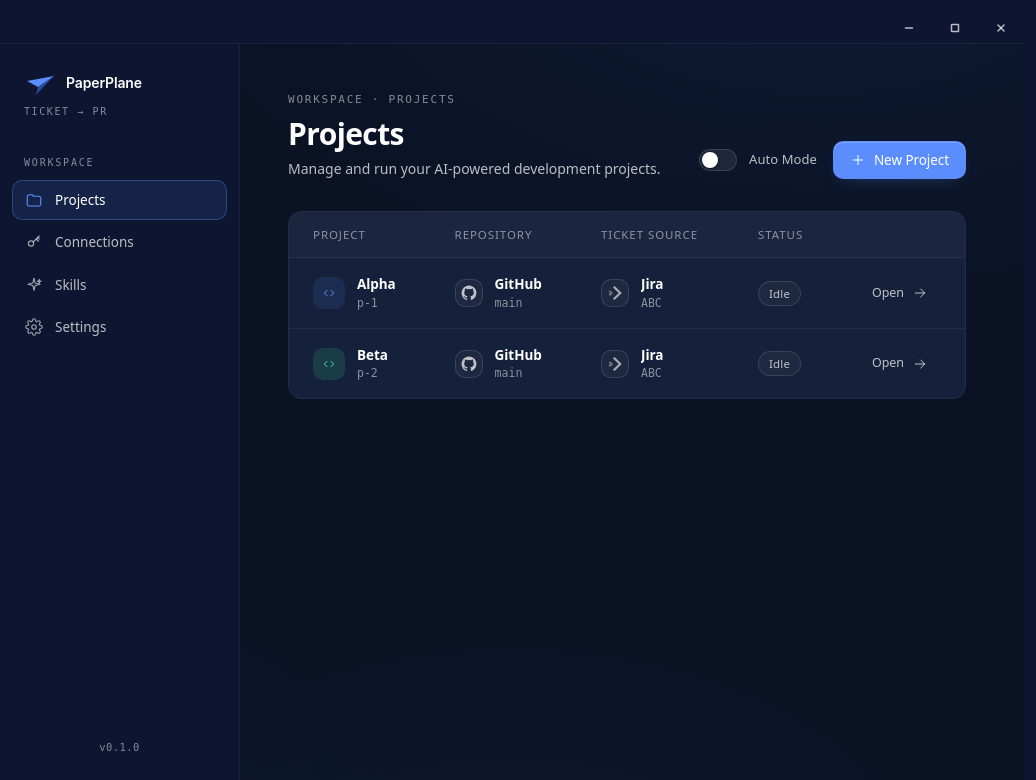
<App /> — APP-007/008 navigation through real ProjectDetail › APP-008: detail Back button returns to list view
Click the button with test id "project-open-p-1".
click(900, 293)  # box x1=859 y1=278 x2=941 y2=308
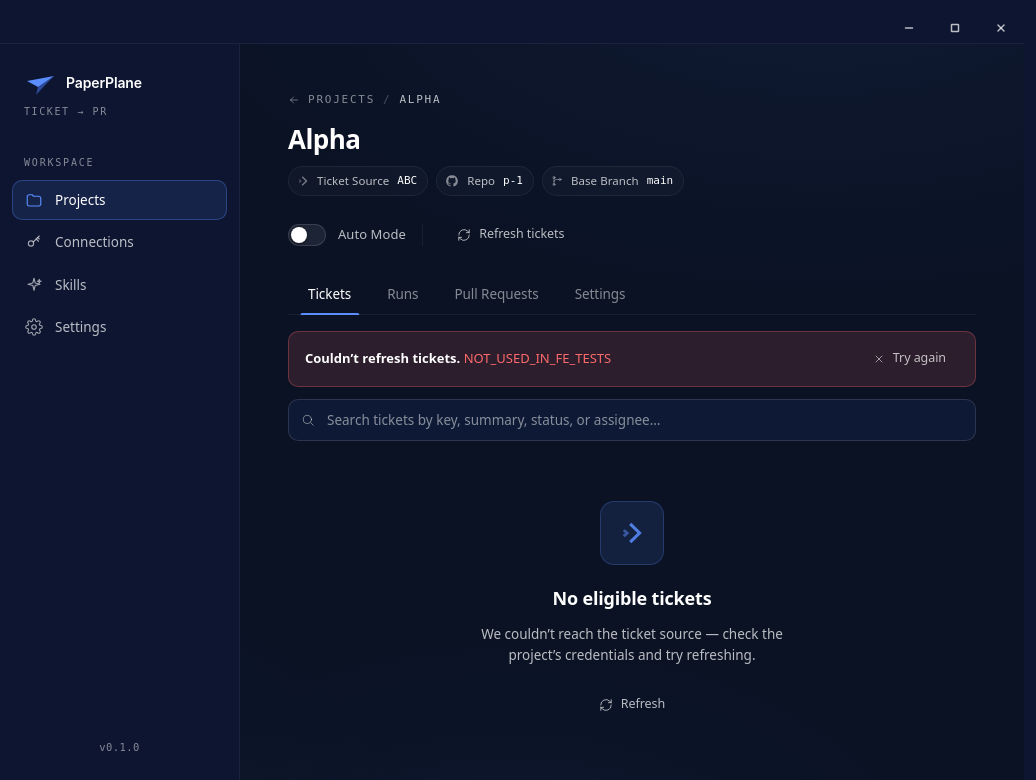
Expected: the heading "Alpha" is shown, x1=288 y1=120 x2=360 y2=156
Click the button with test id "detail-back".
click(332, 100)  # box x1=288 y1=92 x2=375 y2=108
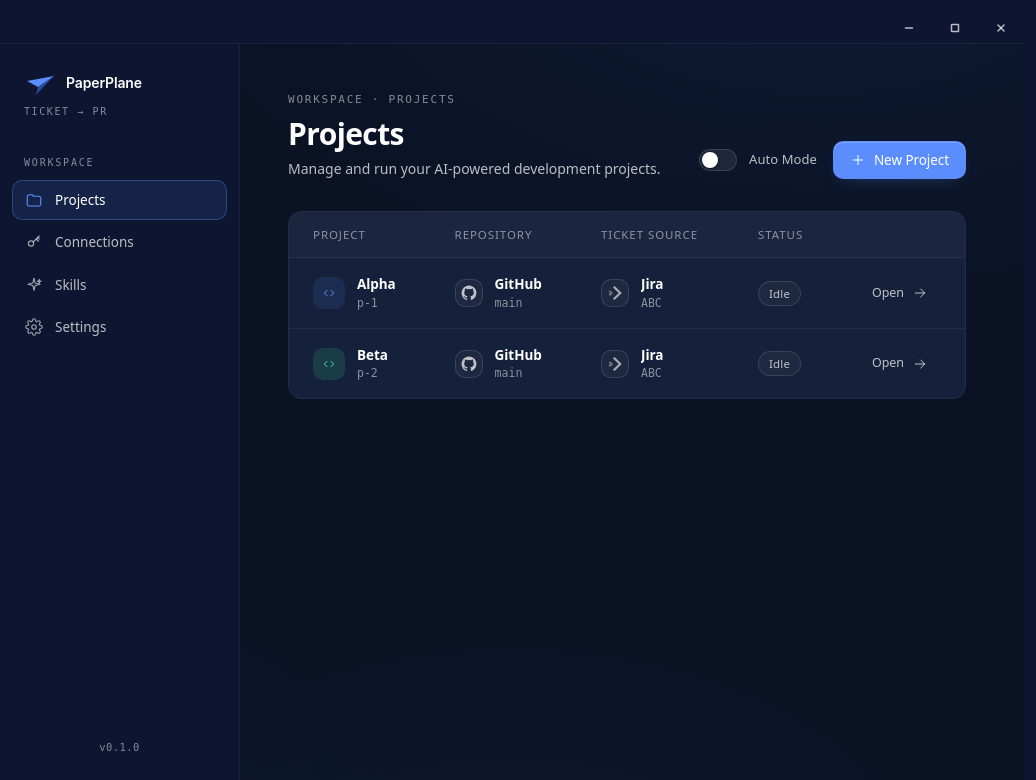
Expected: the heading with test id "page-title" reads "Projects", x1=288 y1=112 x2=404 y2=154
